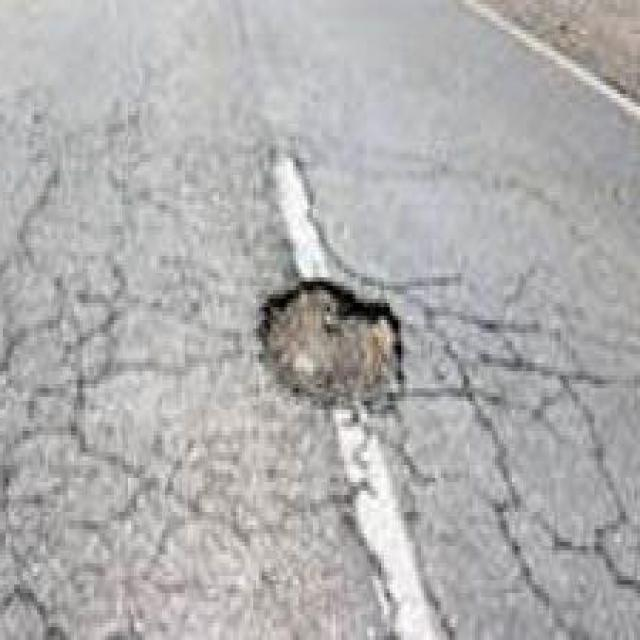Pothole: (256, 274, 411, 419)
